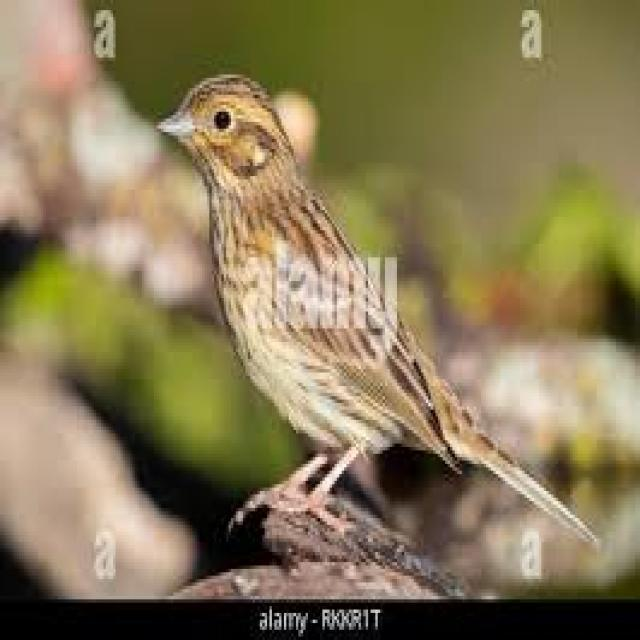bird: (130, 37, 640, 637)
